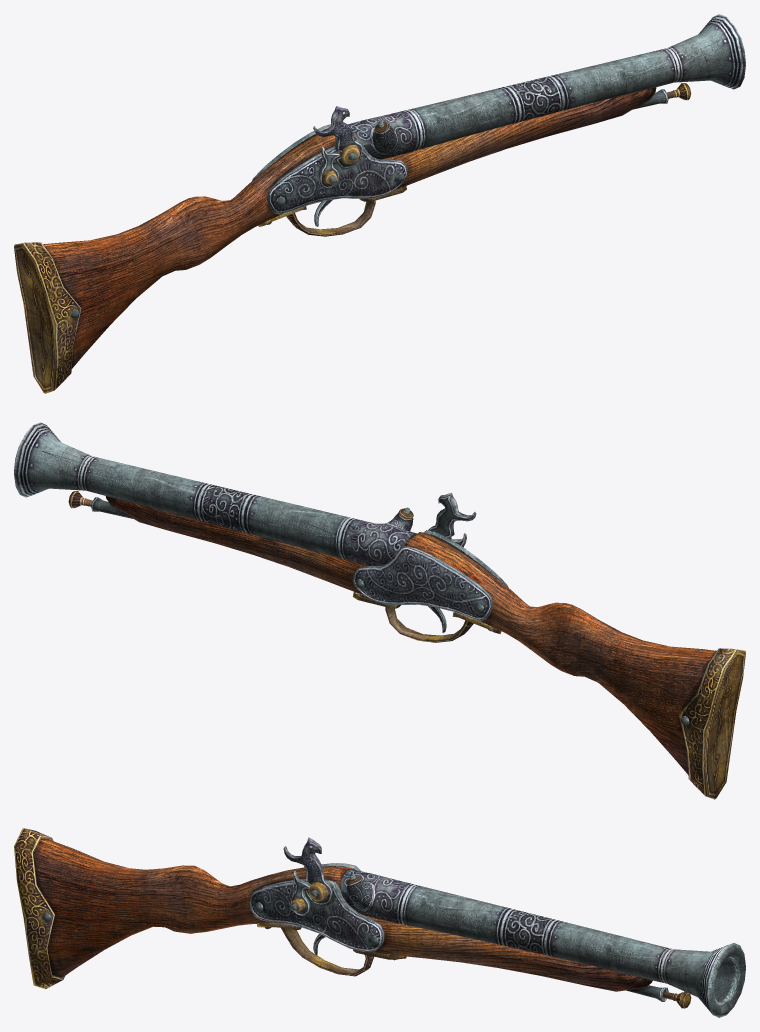
File: Postal10.fbx
3 renders of one model, top to bottom at view 1: azimuth 30°, elevation 25°; view 2: azimuth 150°, elevation 25°; view 3: azimuth 330°, elevation 25°, orthographic.
Visible parts, largest first — view 1: musketoon_short; view 2: musketoon_short; view 3: musketoon_short.
Part boxes in pixels (<box>): musketoon_short: <box>14,14,745,393</box>; musketoon_short: <box>14,422,745,799</box>; musketoon_short: <box>14,828,745,1017</box>.
Size of the model in its own units: 88.27 by 27.41 by 8.74.
